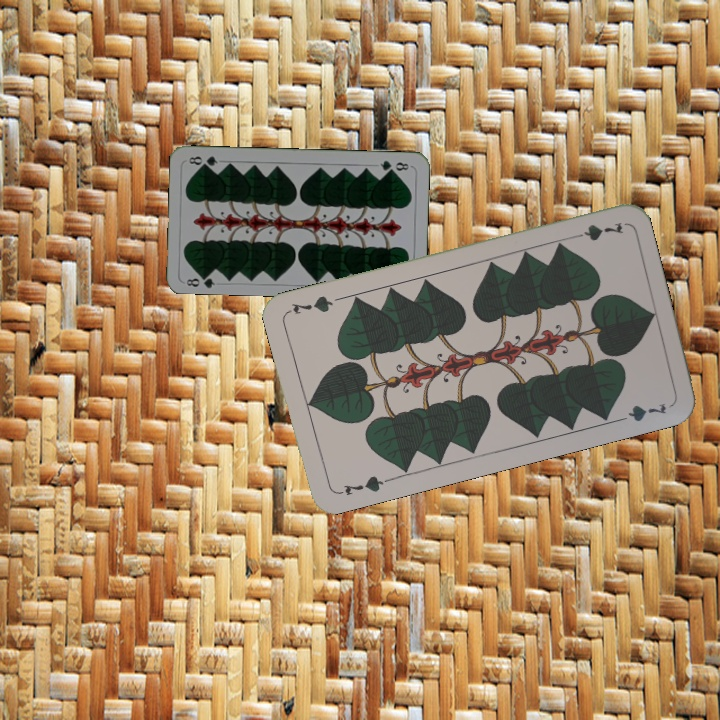G7: (333, 472, 392, 499), (566, 218, 626, 244)
G8: (183, 270, 217, 290), (376, 156, 411, 174)
